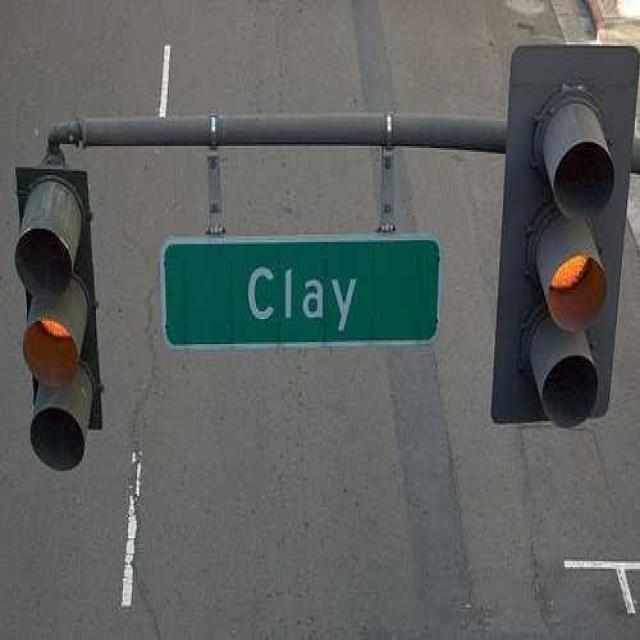yellow_light: (492, 44, 640, 428), (14, 164, 107, 470)
